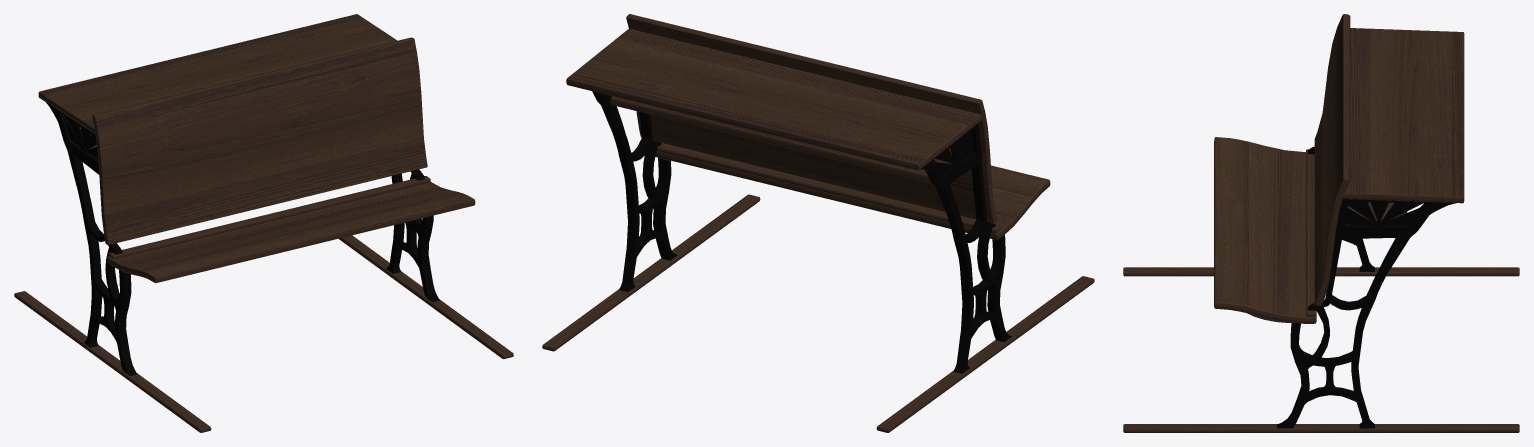
The model's file is studentDeskTextured.fbx.
3 views of the same model, side by side, from view 1: azimuth 30°, elevation 25°; view 2: azimuth 150°, elevation 25°; view 3: azimuth 270°, elevation 25° (orthographic). The views are drawn at different scales.
Visible parts, largest first — view 1: deskExport_Parts_woodenBits, deskExport_Parts_metalBits; view 2: deskExport_Parts_woodenBits, deskExport_Parts_metalBits; view 3: deskExport_Parts_woodenBits, deskExport_Parts_metalBits.
Part boxes in pixels (box(x1,y1,x2,y2)): deskExport_Parts_woodenBits: box(14, 14, 513, 432); deskExport_Parts_metalBits: box(46, 102, 439, 375); deskExport_Parts_woodenBits: box(542, 14, 1094, 432); deskExport_Parts_metalBits: box(592, 91, 1011, 373); deskExport_Parts_woodenBits: box(1123, 14, 1519, 432); deskExport_Parts_metalBits: box(1277, 146, 1456, 428).
Bounding box in the file's own units: 11.4 × 8.21 × 11.5.
